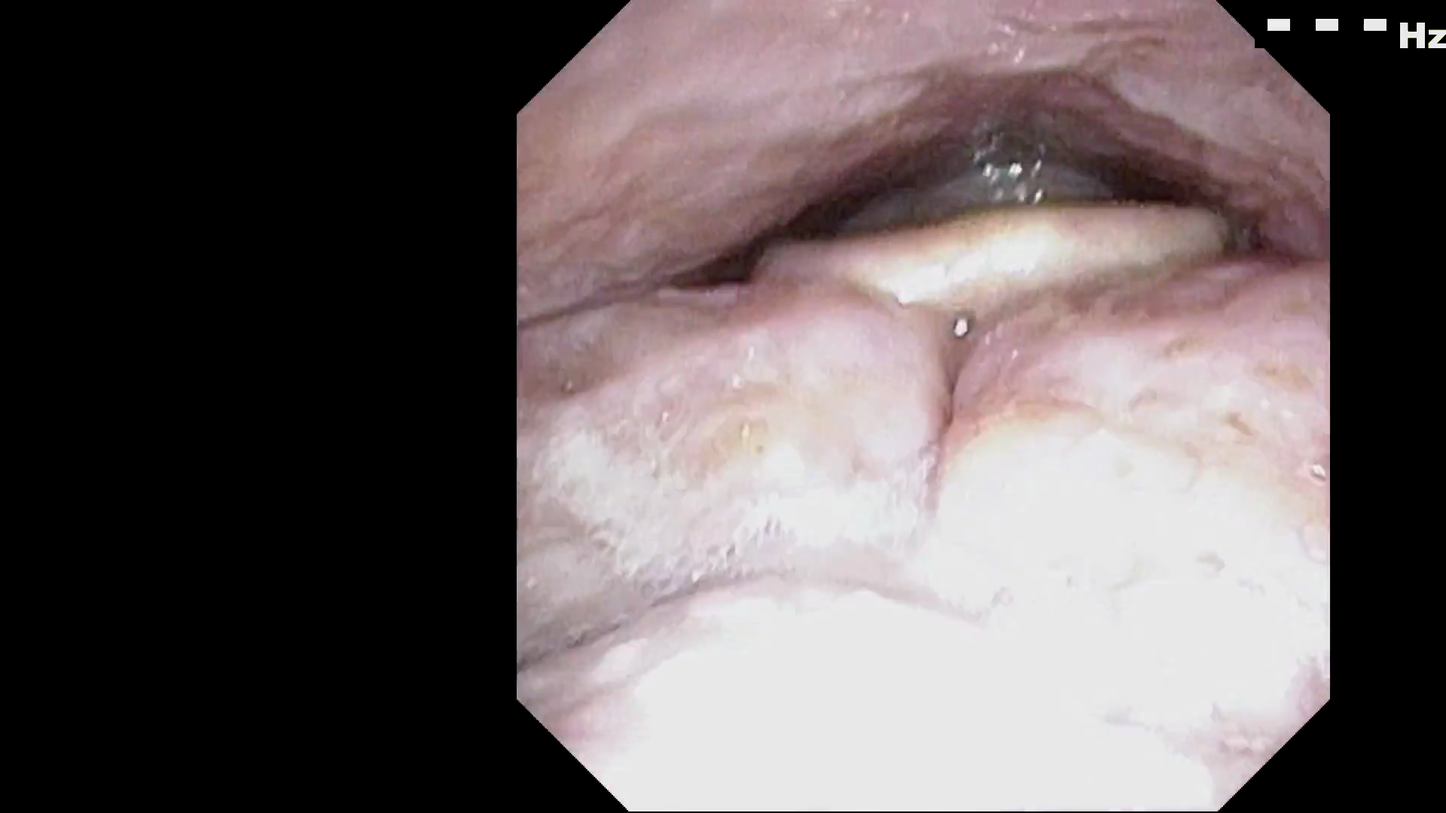epiglottis: (812, 186, 1178, 305)
